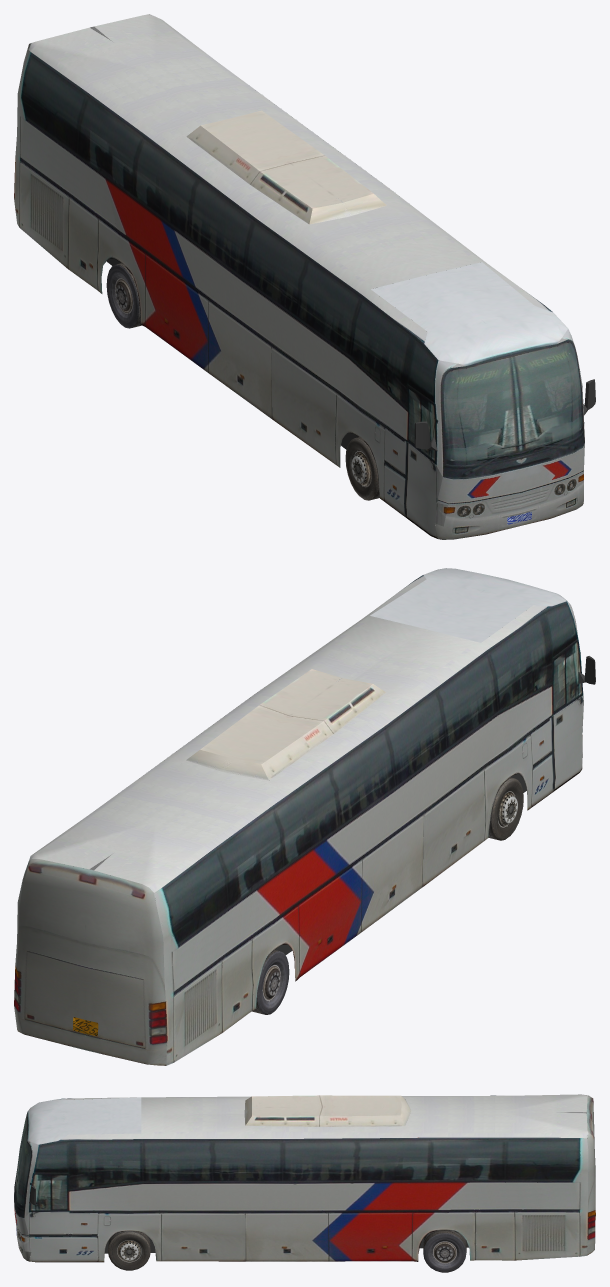
The model's file is 公交车2.9cc92c9c.glb.
3 views of the same model, one above another, from view 1: azimuth 30°, elevation 25°; view 2: azimuth 150°, elevation 25°; view 3: azimuth 270°, elevation 25° (orthographic). The views are drawn at different scales.
Parts seen in each view (by area): view 1: CAR-001, CAR-005, CAR-003; view 2: CAR-001, CAR-003, CAR-005; view 3: CAR-001, CAR-004, CAR-002.
Part boxes in pixels (left/top/right/bottom): CAR-001: left=14, top=14, right=595, bottom=539; CAR-005: left=106, top=263, right=141, bottom=328; CAR-003: left=345, top=437, right=379, bottom=500; CAR-001: left=14, top=568, right=595, bottom=1065; CAR-003: left=488, top=777, right=523, bottom=840; CAR-005: left=252, top=950, right=289, bottom=1014; CAR-001: left=14, top=1094, right=595, bottom=1262; CAR-004: left=423, top=1230, right=466, bottom=1272; CAR-002: left=108, top=1230, right=150, bottom=1270.
Bounding box in the file's own units: 2.88 × 3.25 × 12.07.
Materials: 22 (20 with a texture image).
